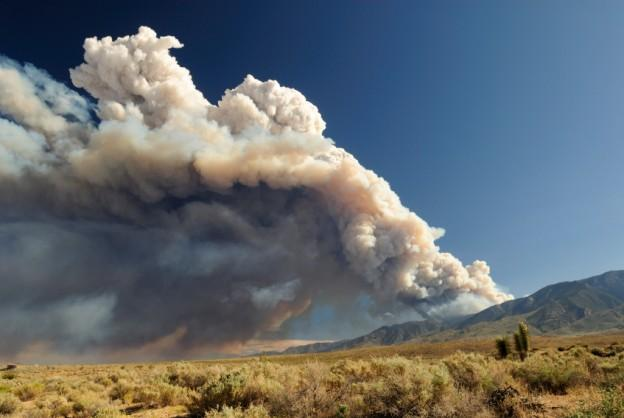smoke: (1, 23, 519, 323)
